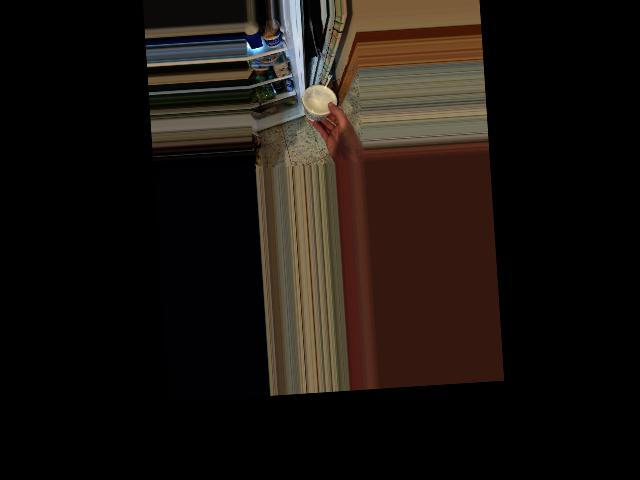cotage: (301, 80, 333, 117)
